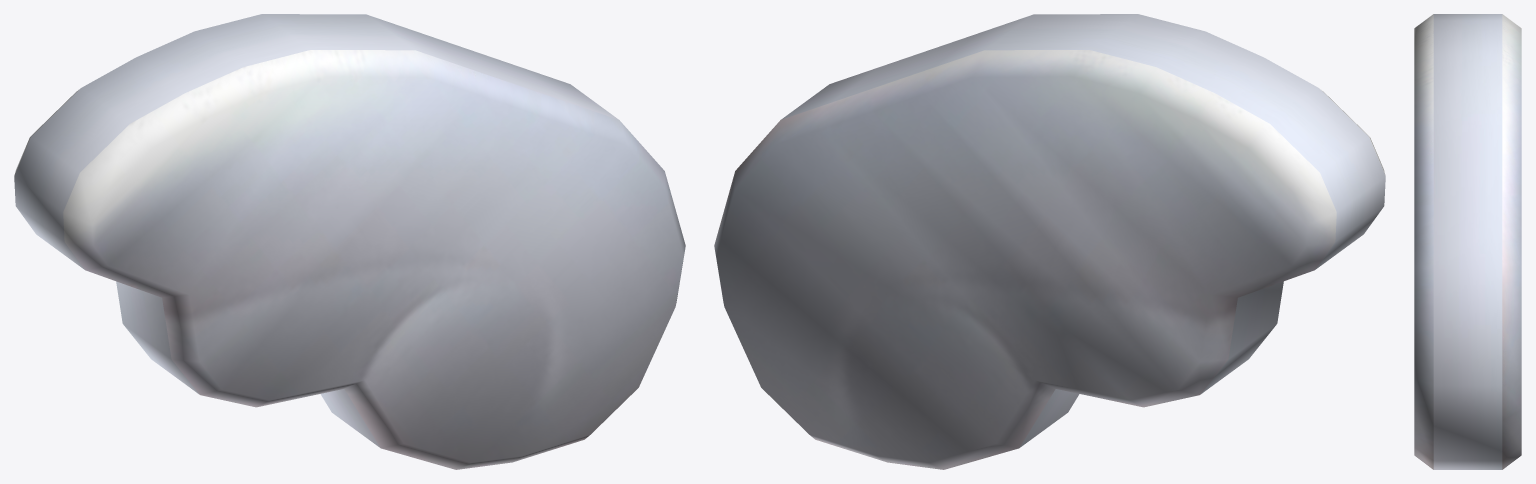
Rendered from vleugel.FBX.
3 views of the same model, side by side, from view 1: azimuth 30°, elevation 25°; view 2: azimuth 150°, elevation 25°; view 3: azimuth 270°, elevation 25° (orthographic). The views are drawn at different scales.
Parts seen in each view (by area): view 1: vleugel; view 2: vleugel; view 3: vleugel.
Boxes of the visible parts, x1=… form: vleugel: x1=14, y1=14, x2=685, y2=469; vleugel: x1=714, y1=14, x2=1385, y2=469; vleugel: x1=1414, y1=14, x2=1521, y2=469.
Bounding box in the file's own units: 46.41 × 32.9 × 9.87.
1 material, 1 textured.
